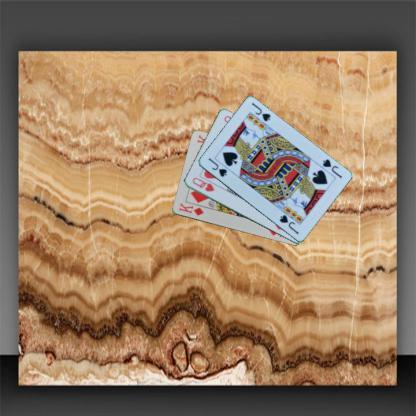Js: (320, 156, 344, 180), (205, 155, 228, 178)
Kd: (176, 200, 205, 218)
Qh: (190, 174, 216, 193)
